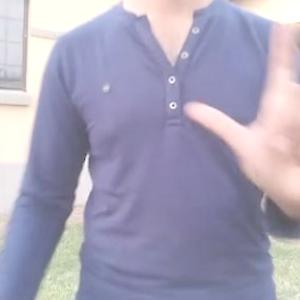land_hand: (182, 13, 299, 212)
